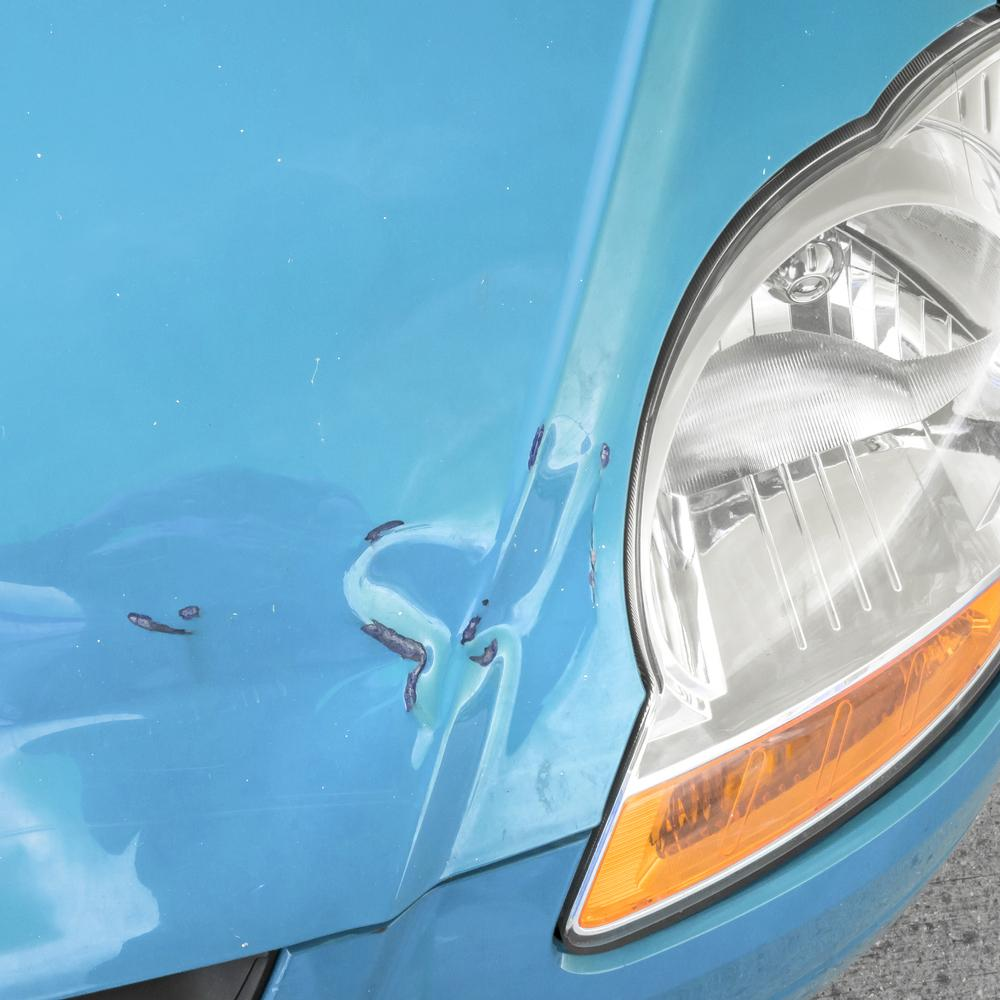dent: (0, 428, 597, 916)
